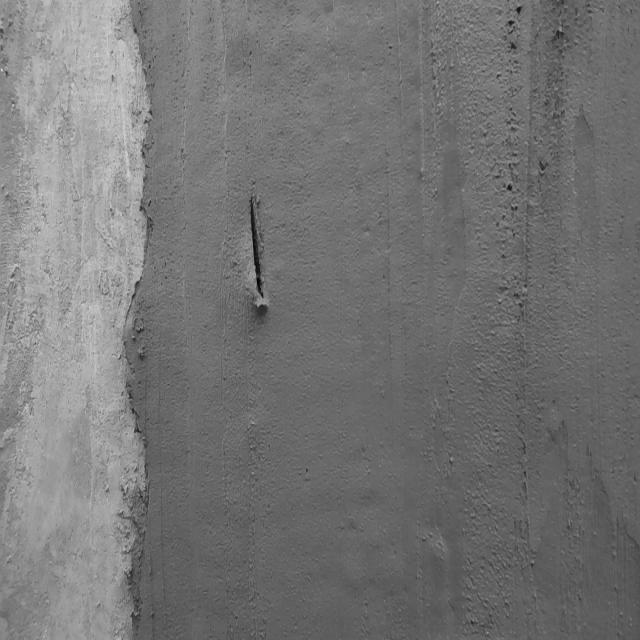trowels marks: (516, 11, 555, 640)
